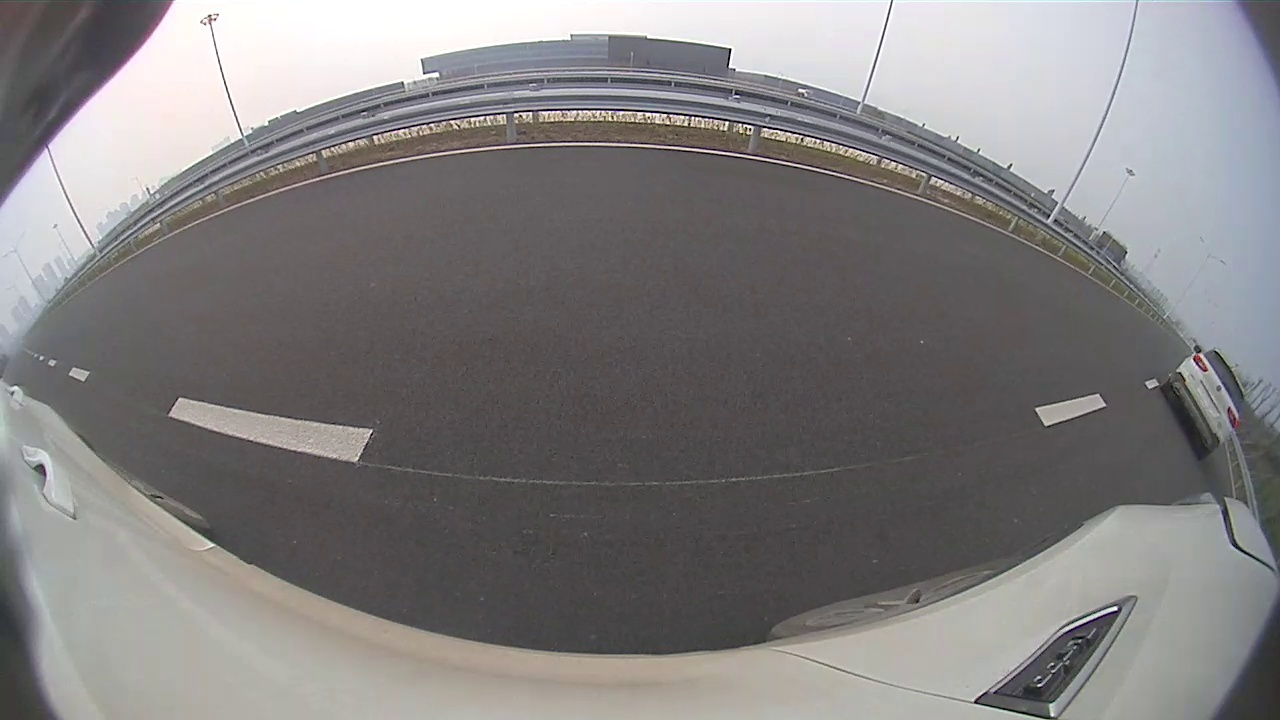car: (640, 84, 864, 251)
front: (639, 174, 657, 220)
rear: (668, 176, 706, 251)
